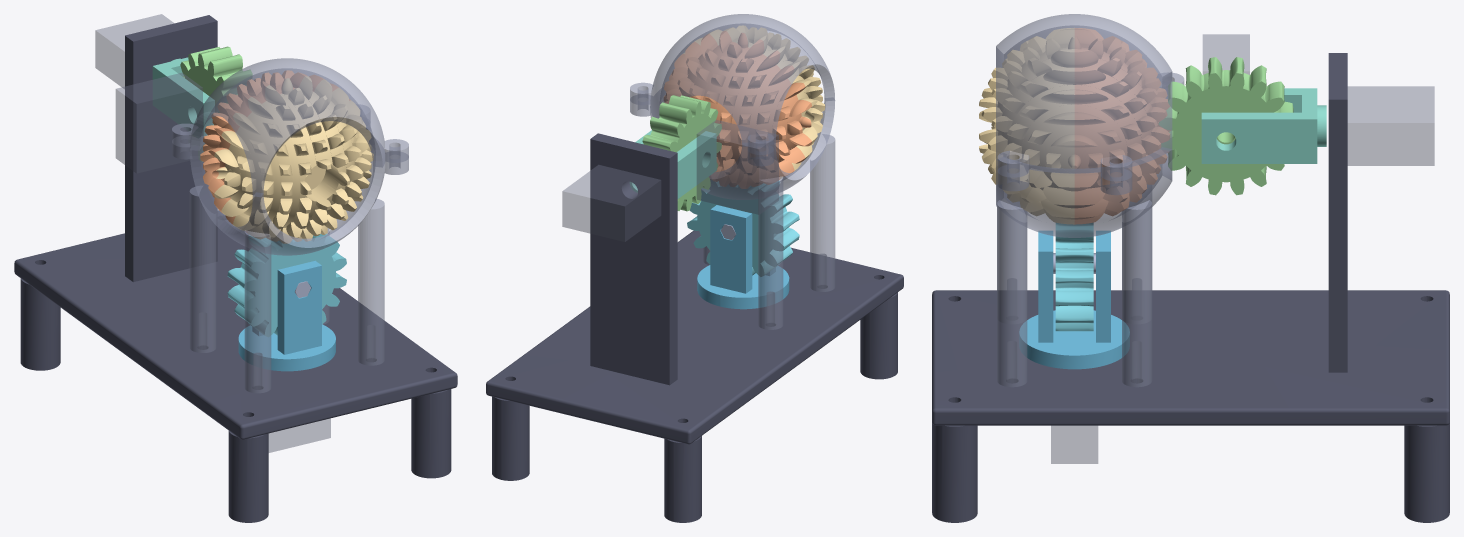
The model's file is laser-mount.glb.
The picture shows the model from 3 angles, left to right: view 1: azimuth 30°, elevation 25°; view 2: azimuth 150°, elevation 25°; view 3: azimuth 270°, elevation 25°; orthographic projection. The views are drawn at different scales.
Parts seen in each view (by area): view 1: Platine + palier du pivot A (4 vis M3), Demi-boule avant (laser), Cage basse (fixée à la platine), Cage haute (capot vissé), Moteur rotation A (tilt), Plateau B (pan, pivote autour de Y), Pignon B (bloqué, pan par le plateau), Demi-boule arrière, Chape A (pivote autour de Z), Pignon A (tilt), Moteur pivot A (compensation), Moteur plateau B (pan); view 2: Platine + palier du pivot A (4 vis M3), Cage haute (capot vissé), Demi-boule arrière, Cage basse (fixée à la platine), Moteur rotation A (tilt), Moteur pivot A (compensation), Plateau B (pan, pivote autour de Y), Pignon B (bloqué, pan par le plateau), Pignon A (tilt), Demi-boule avant (laser), Chape A (pivote autour de Z); view 3: Platine + palier du pivot A (4 vis M3), Cage haute (capot vissé), Cage basse (fixée à la platine), Demi-boule avant (laser), Demi-boule arrière, Pignon A (tilt), Plateau B (pan, pivote autour de Y), Chape A (pivote autour de Z), Moteur pivot A (compensation), Pignon B (bloqué, pan par le plateau), Moteur plateau B (pan), Moteur rotation A (tilt).
Boxes of the visible parts, bbox=[...] form: Platine + palier du pivot A (4 vis M3): bbox=[14, 15, 457, 522]; Demi-boule avant (laser): bbox=[214, 76, 373, 243]; Cage basse (fixée à la platine): bbox=[172, 124, 408, 393]; Cage haute (capot vissé): bbox=[172, 58, 408, 197]; Moteur rotation A (tilt): bbox=[115, 73, 202, 173]; Plateau B (pan, pivote autour de Y): bbox=[238, 260, 335, 371]; Pignon B (bloqué, pan par le plateau): bbox=[227, 234, 346, 336]; Demi-boule arrière: bbox=[200, 70, 350, 232]; Chape A (pivote autour de Z): bbox=[152, 57, 214, 138]; Pignon A (tilt): bbox=[180, 46, 252, 161]; Moteur pivot A (compensation): bbox=[95, 14, 173, 88]; Moteur plateau B (pan): bbox=[268, 418, 330, 452]; Platine + palier du pivot A (4 vis M3): bbox=[486, 133, 903, 522]; Cage haute (capot vissé): bbox=[630, 14, 834, 154]; Demi-boule arrière: bbox=[664, 31, 811, 188]; Cage basse (fixée à la platine): bbox=[630, 89, 835, 329]; Moteur rotation A (tilt): bbox=[696, 119, 778, 214]; Moteur pivot A (compensation): bbox=[562, 165, 661, 241]; Plateau B (pan, pivote autour de Y): bbox=[697, 205, 789, 309]; Pignon B (bloqué, pan par le plateau): bbox=[687, 180, 799, 276]; Pignon A (tilt): bbox=[642, 95, 721, 211]; Demi-boule avant (laser): bbox=[683, 25, 825, 178]; Chape A (pivote autour de Z): bbox=[629, 130, 716, 198]; Platine + palier du pivot A (4 vis M3): bbox=[932, 53, 1449, 522]; Cage haute (capot vissé): bbox=[996, 14, 1184, 181]; Cage basse (fixée à la platine): bbox=[996, 147, 1172, 387]; Demi-boule avant (laser): bbox=[979, 28, 1074, 224]; Demi-boule arrière: bbox=[1075, 28, 1170, 224]; Pignon A (tilt): bbox=[1159, 57, 1293, 195]; Plateau B (pan, pivote autour de Y): bbox=[1019, 231, 1129, 369]; Chape A (pivote autour de Z): bbox=[1201, 88, 1326, 163]; Moteur pivot A (compensation): bbox=[1347, 86, 1434, 165]; Pignon B (bloqué, pan par le plateau): bbox=[1055, 223, 1093, 331]; Moteur plateau B (pan): bbox=[1051, 425, 1098, 463]; Moteur rotation A (tilt): bbox=[1202, 34, 1249, 74].
Size of the model in its own units: 75.2 by 128 by 137.
